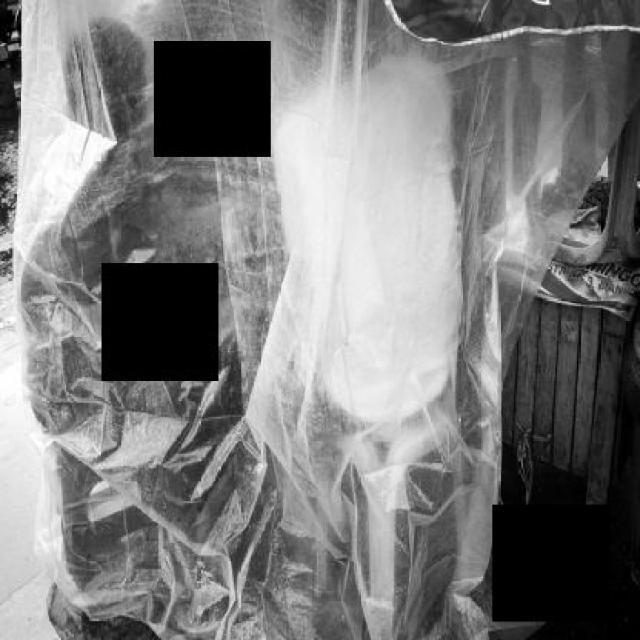plastic bag: (10, 0, 638, 638)
